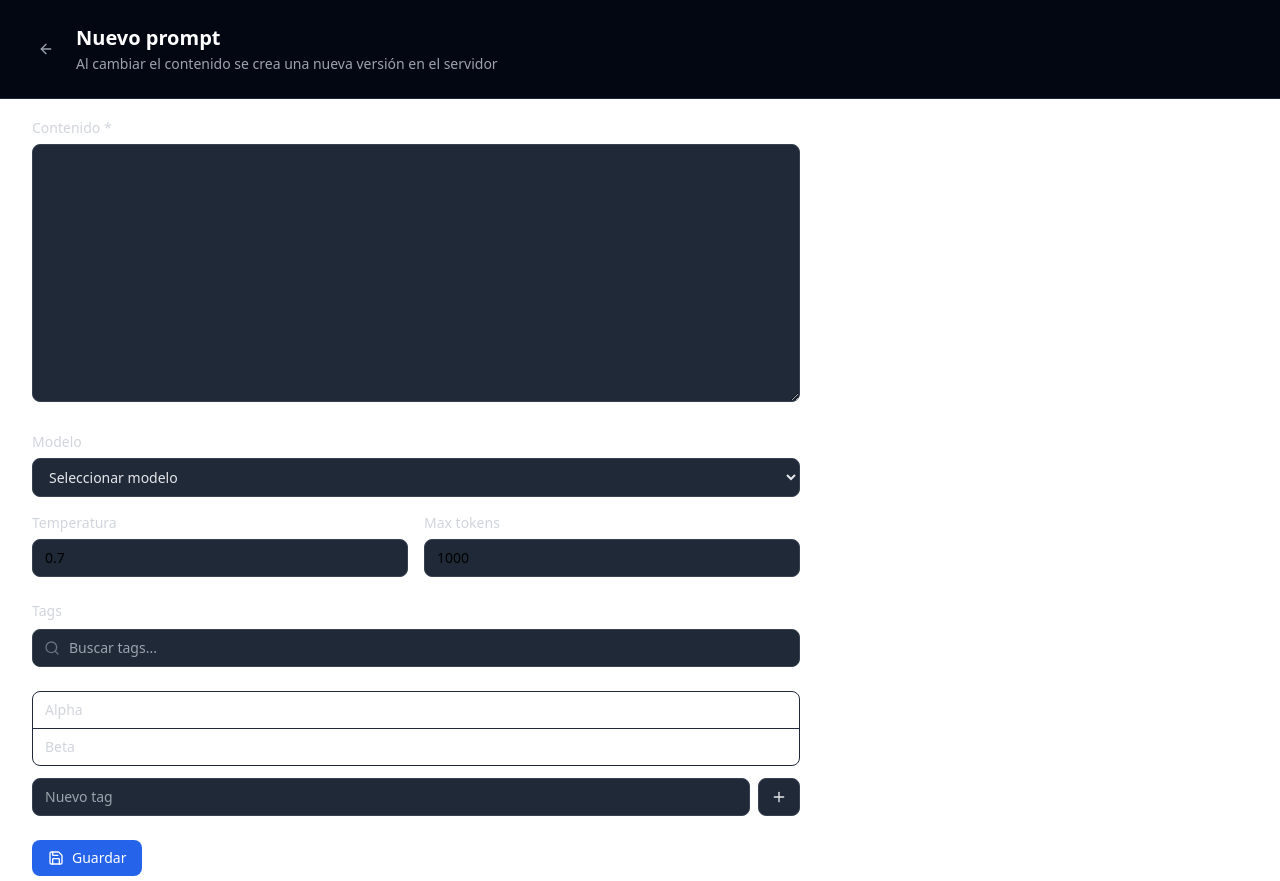
Scenario: PromptFormPage › validación: título obligatorio
The width and height of the screenshot is (1280, 881).
(page scrolled)
Expected: the heading "Nuevo prompt" is shown, [76,24,220,51]
Click the button "Guardar".
click(87, 858)  # box [32,840,142,876]
(page scrolled)
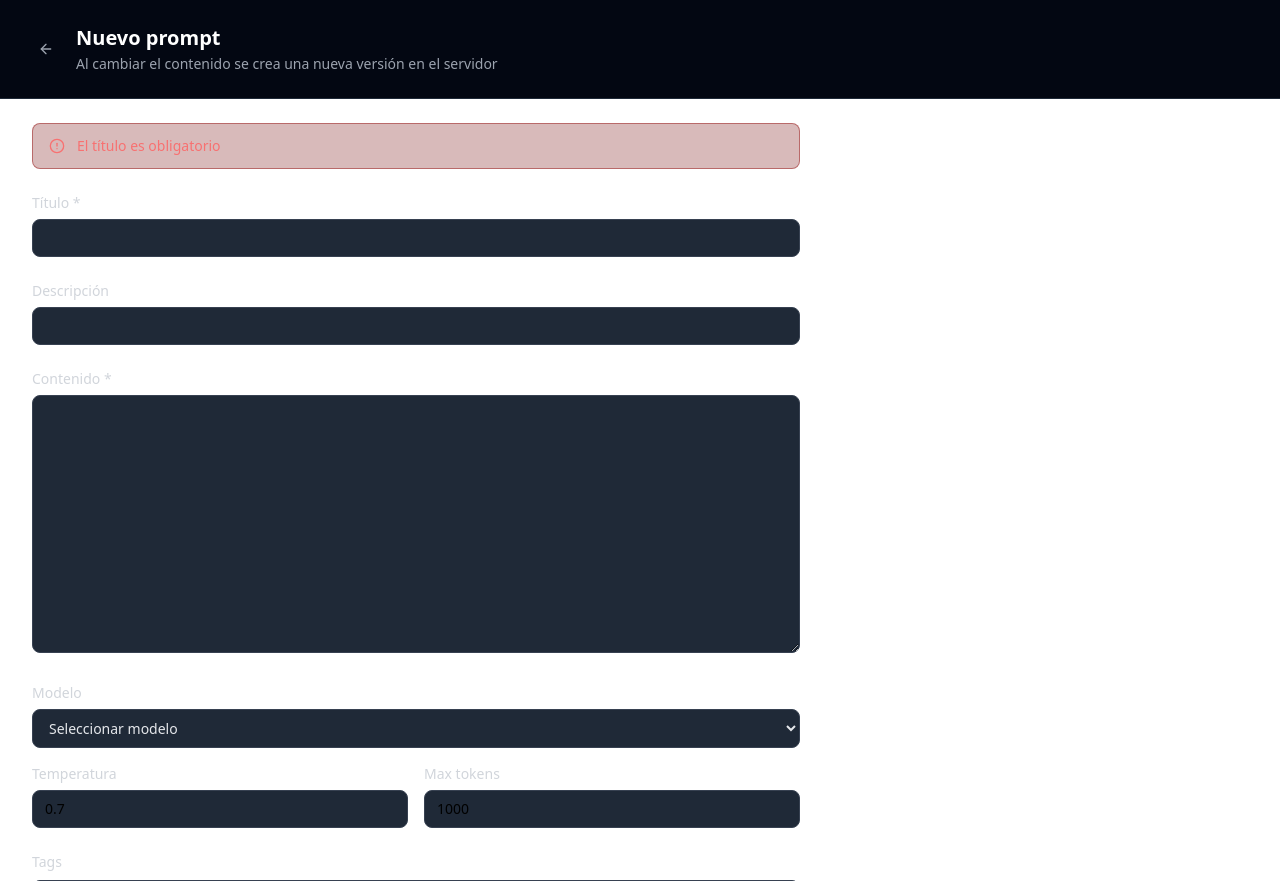
Now the text "El título es obligatorio" is shown, box [32,123,800,169]
